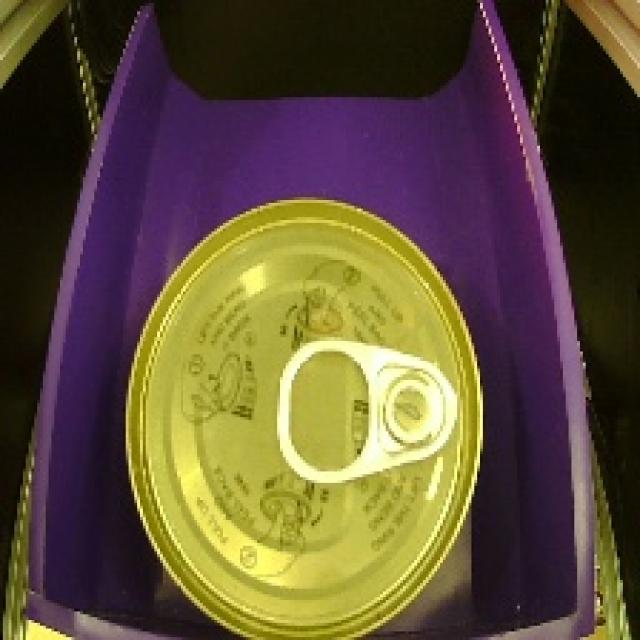metal: (101, 184, 501, 640)
